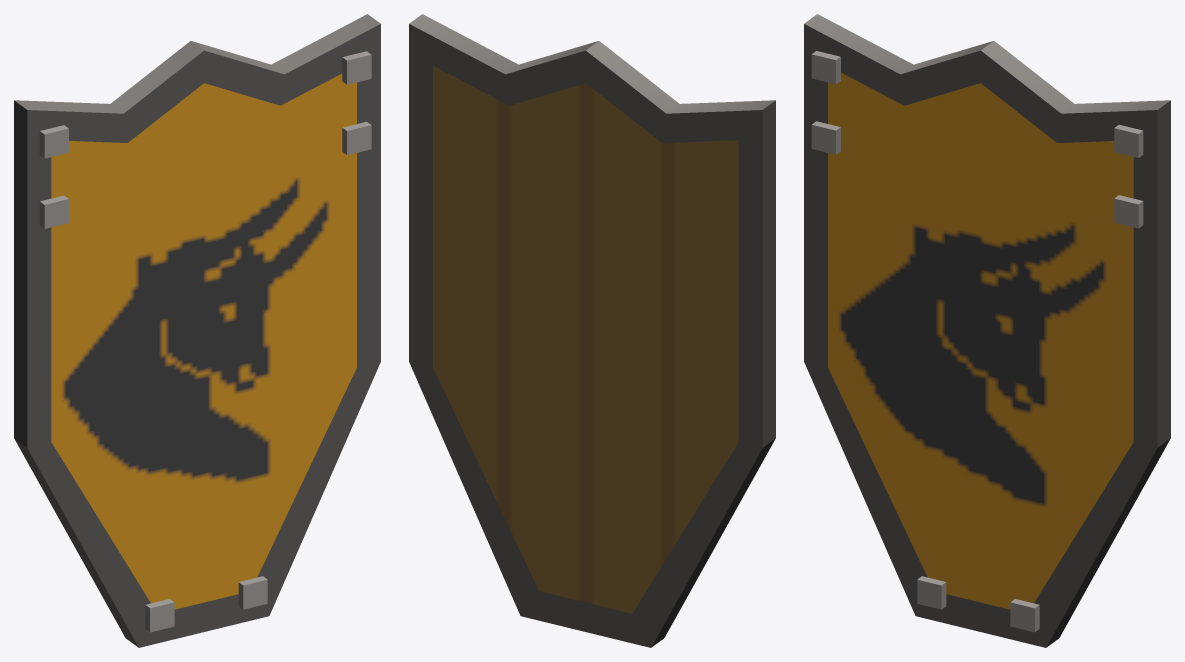
Rendered from SF_Wep_Human_Shield_05.fbx.
The picture shows the model from 3 angles, left to right: view 1: azimuth 30°, elevation 25°; view 2: azimuth 150°, elevation 25°; view 3: azimuth 330°, elevation 25°; orthographic projection.
Parts seen in each view (by area): view 1: SF_Wep_Human_Shield_05; view 2: SF_Wep_Human_Shield_05; view 3: SF_Wep_Human_Shield_05.
Boxes of the visible parts, x1,y1,x2,y2 form: SF_Wep_Human_Shield_05: (14,14,380,647); SF_Wep_Human_Shield_05: (409,14,775,647); SF_Wep_Human_Shield_05: (804,14,1170,647).
Bounding box in the file's own units: 0.9564 × 1.5 × 0.0851.
